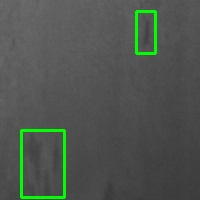inclusion: (21, 130, 64, 197), (136, 11, 155, 53)
